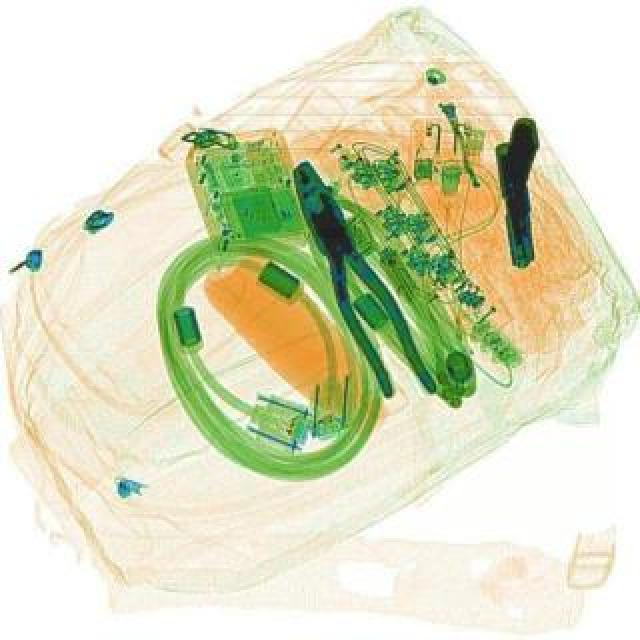gun: (488, 120, 556, 276)
wrench: (270, 156, 442, 416)
